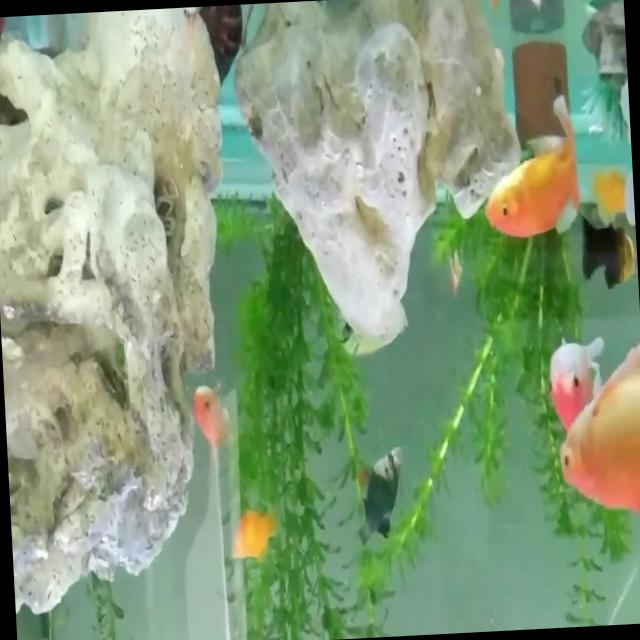GoldFish: (468, 83, 590, 260), (559, 336, 640, 524)
